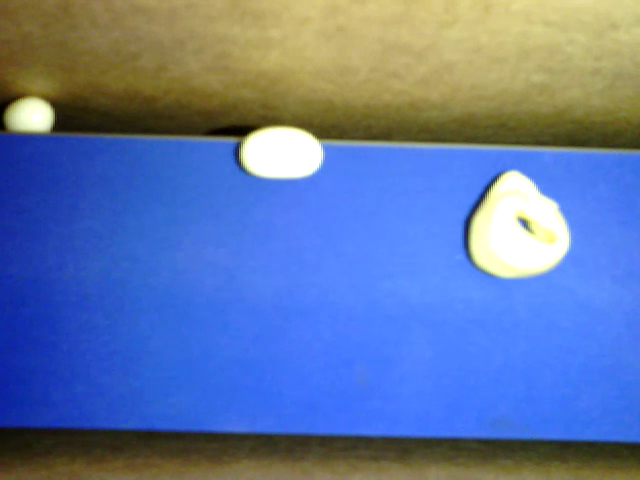tortellini: (467, 168, 571, 279)
